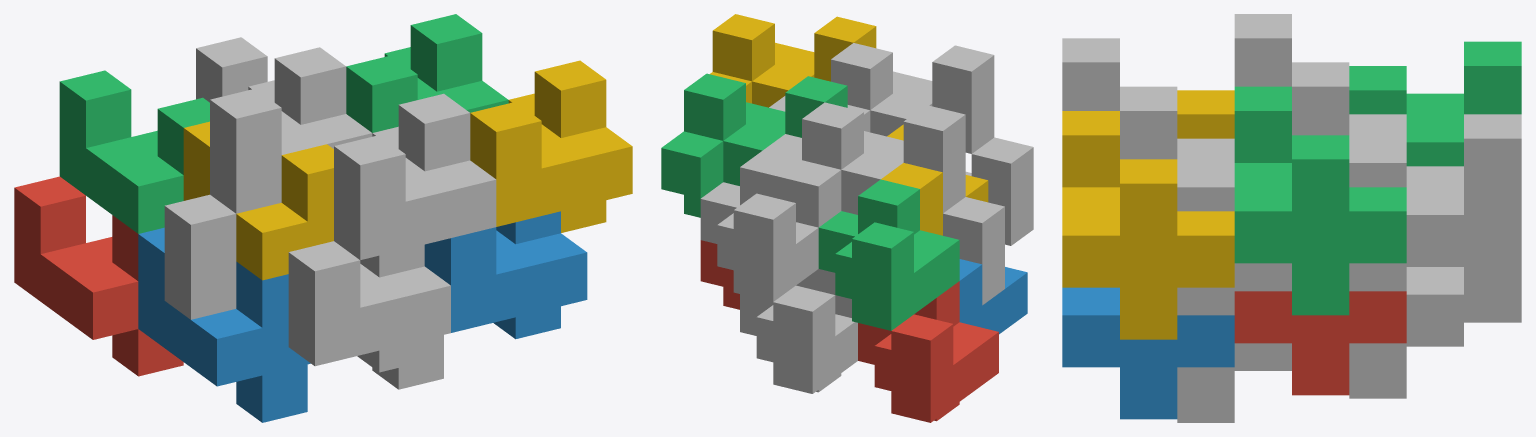
Rendered from tiling.obj.
3 views of the same model, side by side, from view 1: azimuth 30°, elevation 25°; view 2: azimuth 150°, elevation 25°; view 3: azimuth 270°, elevation 25° (orthographic). The views are drawn at different scales.
Parts seen in each view (by area): view 1: copy_2_domain_4, copy_2_domain_8, copy_2_domain_2, copy_1_domain_1, copy_1_domain_2, copy_2_domain_3, copy_1_domain_3, copy_2_domain_6, copy_2_domain_7, copy_1_domain_4, copy_2_domain_1, copy_1_domain_7 (+1 smaller); view 2: copy_1_domain_3, copy_2_domain_3, copy_2_domain_7, copy_1_domain_1, copy_1_domain_7, copy_2_domain_4, copy_1_domain_5, copy_2_domain_8, copy_2_domain_1, copy_2_domain_2, copy_1_domain_2, copy_1_domain_4 (+2 smaller); view 3: copy_2_domain_7, copy_2_domain_8, copy_1_domain_7, copy_1_domain_5, copy_2_domain_6, copy_1_domain_3, copy_2_domain_5, copy_2_domain_3, copy_2_domain_4, copy_1_domain_8, copy_1_domain_6, copy_1_domain_4.
Part boxes in pixels (bbox=[...]): copy_2_domain_4: bbox=[334, 93, 496, 260]; copy_2_domain_8: bbox=[470, 60, 632, 232]; copy_2_domain_2: bbox=[288, 241, 450, 372]; copy_1_domain_1: bbox=[14, 176, 183, 376]; copy_1_domain_2: bbox=[138, 227, 310, 422]; copy_2_domain_3: bbox=[210, 47, 372, 213]; copy_1_domain_3: bbox=[59, 70, 209, 233]; copy_2_domain_6: bbox=[424, 211, 587, 339]; copy_2_domain_7: bbox=[346, 14, 508, 132]; copy_1_domain_4: bbox=[183, 121, 333, 280]; copy_2_domain_1: bbox=[164, 194, 236, 319]; copy_1_domain_7: bbox=[196, 37, 267, 102]; copy_1_domain_3: bbox=[818, 179, 959, 330]; copy_2_domain_3: bbox=[779, 102, 965, 227]; copy_2_domain_7: bbox=[661, 73, 847, 217]; copy_1_domain_1: bbox=[858, 281, 998, 422]; copy_1_domain_7: bbox=[700, 150, 818, 301]; copy_2_domain_4: bbox=[831, 43, 994, 153]; copy_1_domain_5: bbox=[740, 269, 857, 393]; copy_2_domain_8: bbox=[710, 14, 876, 107]; copy_2_domain_1: bbox=[818, 197, 1004, 317]; copy_2_domain_2: bbox=[965, 137, 1033, 245]; copy_1_domain_2: bbox=[959, 259, 1027, 334]; copy_1_domain_4: bbox=[881, 124, 988, 235]; copy_2_domain_7: bbox=[1234, 86, 1406, 315]; copy_2_domain_8: bbox=[1062, 111, 1234, 339]; copy_1_domain_7: bbox=[1349, 114, 1521, 291]; copy_1_domain_5: bbox=[1349, 242, 1521, 398]; copy_2_domain_6: bbox=[1062, 287, 1234, 419]; copy_1_domain_3: bbox=[1349, 41, 1521, 166]; copy_2_domain_5: bbox=[1234, 291, 1406, 395]; copy_2_domain_3: bbox=[1234, 14, 1406, 138]; copy_2_domain_4: bbox=[1062, 38, 1234, 162]; copy_1_domain_8: bbox=[1177, 163, 1291, 315]; copy_1_domain_6: bbox=[1177, 343, 1291, 422]; copy_1_domain_4: bbox=[1177, 90, 1234, 138].
Size of the model in its own units: 9 by 6 by 8.
